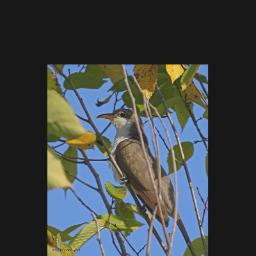Cuckoo: (76, 108, 176, 228)
